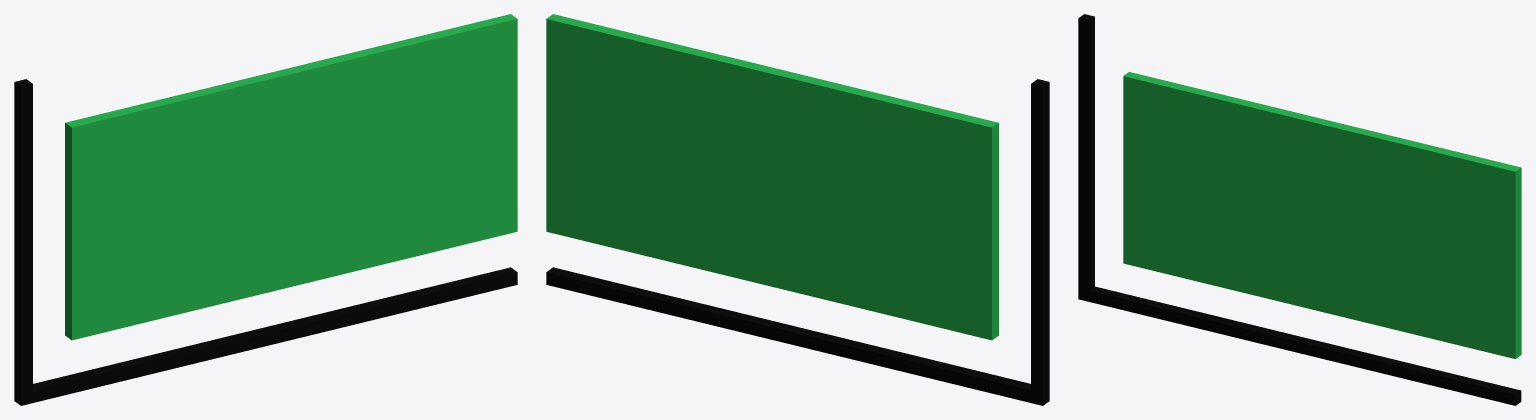
The model's file is rectangulo.gltf.
3 views of the same model, side by side, from view 1: azimuth 30°, elevation 25°; view 2: azimuth 150°, elevation 25°; view 3: azimuth 330°, elevation 25° (orthographic). The views are drawn at different scales.
Size of the model in its own units: 0.0976 by 0.06 by 0.00228.
